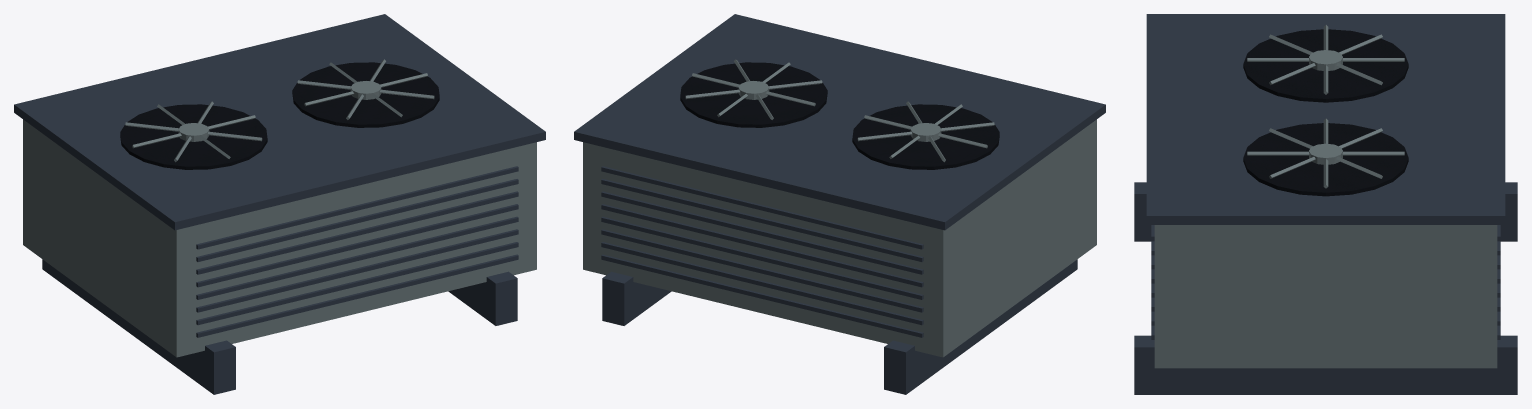
The model's file is roof_unit.glb.
3 renders of one model, left to right at view 1: azimuth 30°, elevation 25°; view 2: azimuth 150°, elevation 25°; view 3: azimuth 270°, elevation 25°, orthographic. The views are drawn at different scales.
Parts seen in each view (by area): view 1: roof_unit_Steel, roof_unit_Trim, roof_unit_Roof; view 2: roof_unit_Steel, roof_unit_Trim, roof_unit_Roof; view 3: roof_unit_Steel, roof_unit_Trim, roof_unit_Roof.
Part boxes in pixels (bbox=[...]): roof_unit_Steel: bbox=[14, 14, 545, 394]; roof_unit_Trim: bbox=[23, 59, 536, 357]; roof_unit_Roof: bbox=[120, 62, 439, 169]; roof_unit_Steel: bbox=[574, 14, 1105, 394]; roof_unit_Trim: bbox=[583, 59, 1096, 357]; roof_unit_Roof: bbox=[680, 62, 999, 169]; roof_unit_Steel: bbox=[1134, 14, 1517, 394]; roof_unit_Trim: bbox=[1154, 25, 1497, 368]; roof_unit_Roof: bbox=[1243, 29, 1408, 196].
Bounding box in the file's own units: 2.37 × 1.14 × 1.9.
3 materials, 1 textured.
